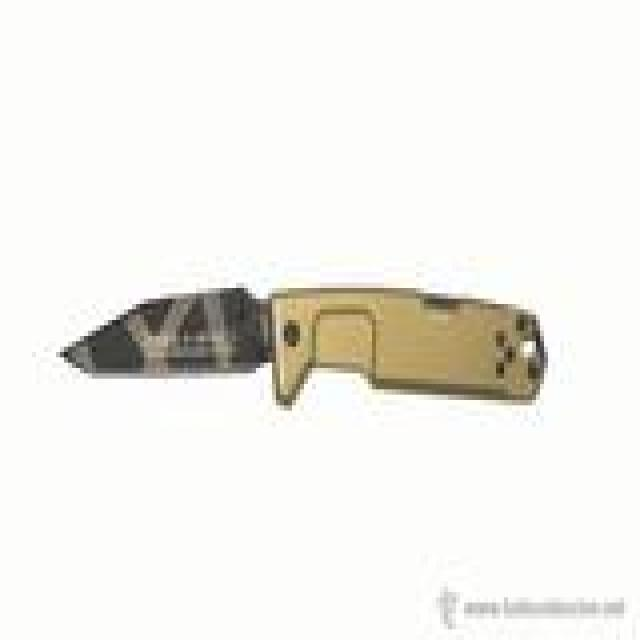Knife: (34, 237, 559, 419)
